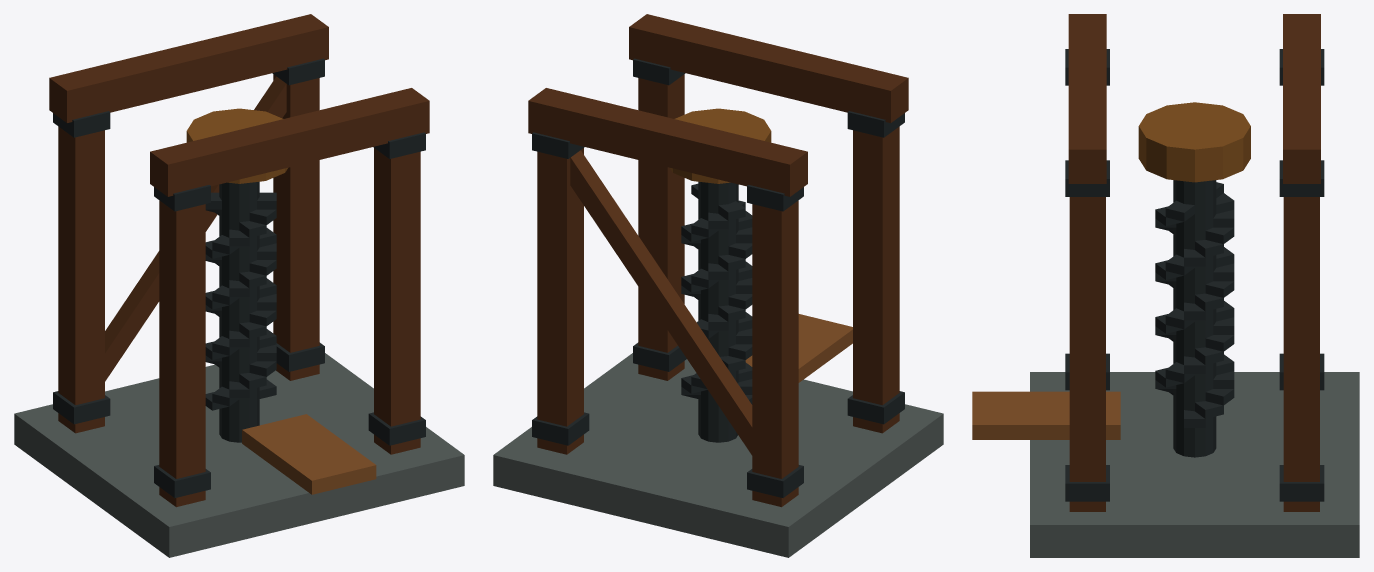
Rendered from vf_quarry.obj.
The picture shows the model from 3 angles, left to right: view 1: azimuth 30°, elevation 25°; view 2: azimuth 150°, elevation 25°; view 3: azimuth 270°, elevation 25°; orthographic projection. The views are drawn at different scales.
Visible parts, largest first — view 1: Static_Oak, Static_Stone, Drill_Iron, Static_Iron, Static_OakLight, Drill_Bronze; view 2: Static_Oak, Static_Stone, Drill_Iron, Static_Iron, Static_OakLight, Drill_Bronze; view 3: Static_Stone, Static_Oak, Drill_Iron, Drill_Bronze, Static_OakLight, Static_Iron.
Boxes of the visible parts, <box> form: Static_Oak: <box>49,14,429,507</box>; Static_Stone: <box>14,353,464,557</box>; Drill_Iron: <box>205,181,276,442</box>; Static_Iron: <box>53,58,425,497</box>; Static_OakLight: <box>242,414,376,494</box>; Drill_Bronze: <box>186,108,287,183</box>; Static_Oak: <box>528,14,908,507</box>; Static_Stone: <box>493,353,943,557</box>; Drill_Iron: <box>681,181,752,442</box>; Static_Iron: <box>532,58,904,497</box>; Static_OakLight: <box>745,314,852,382</box>; Drill_Bronze: <box>670,108,771,183</box>; Static_Stone: <box>1030,372,1359,557</box>; Static_Oak: <box>1068,14,1320,511</box>; Drill_Iron: <box>1155,180,1234,457</box>; Drill_Bronze: <box>1138,102,1250,182</box>; Static_OakLight: <box>972,391,1120,439</box>; Static_Iron: <box>1065,49,1324,501</box>.
Bounding box in the file's own units: 2.2 × 2.67 × 2.35.
